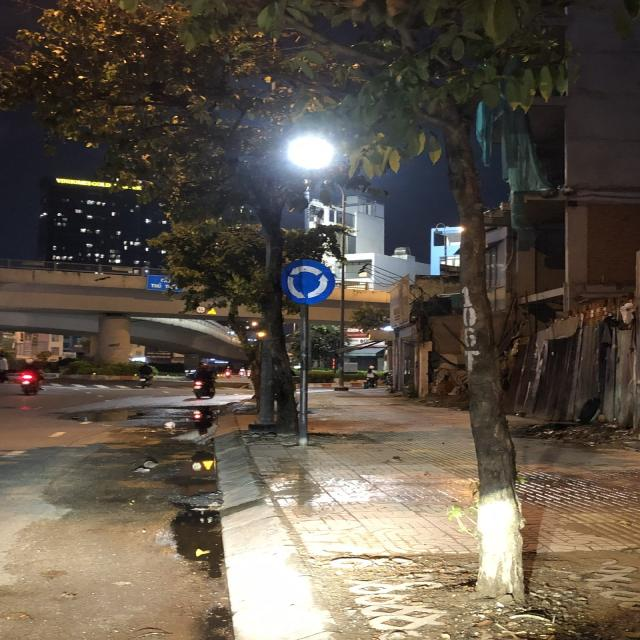Bien bao noi giao nhau chay theo vong xuyen: (278, 255, 338, 309)
